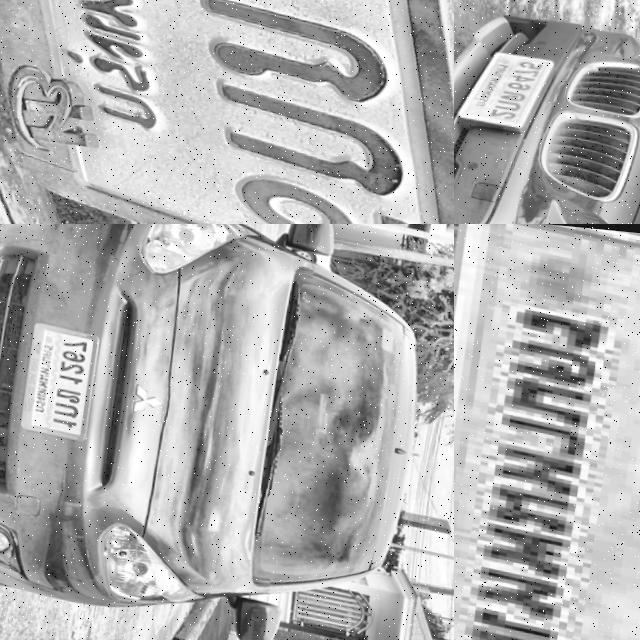license-plate: (0, 0, 454, 224), (454, 224, 640, 640), (14, 312, 107, 440), (454, 34, 558, 131)
